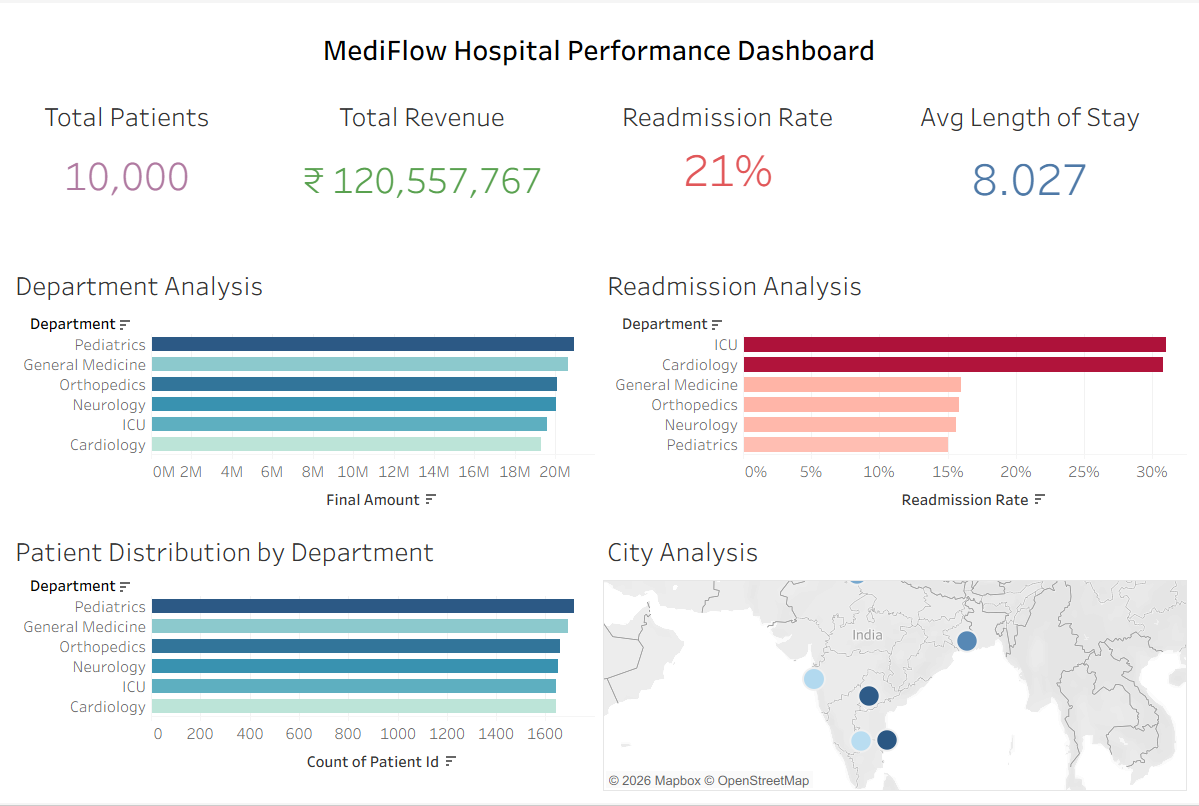

The dashboard page shown, as its layout file describes it:
{"tool":"tableau","page":{"name":"Dashboard 1","canvas":[1000,1000],"units":"permille","ordinal":0},"visuals":[{"type":"text","box":[6.7,10,986.7,95]},{"type":"worksheet","title":"Total Patients","mark":"Text","box":[10,110,210,206.7]},{"type":"worksheet","title":"Total Revenue","mark":"Automatic","box":[220,110,267.5,206.7]},{"type":"worksheet","title":"Readmission Rate","mark":"Automatic","box":[487.5,110,250,206.7]},{"type":"worksheet","title":"Avg Length of Stay","mark":"Automatic","box":[737.5,110,252.5,206.7]},{"type":"worksheet","title":"Department Analysis","mark":"Automatic","rows":["department"],"cols":["final_amount"],"box":[6.7,321.7,493.3,326.2]},{"type":"worksheet","title":"Readmission Analysis","mark":"Automatic","rows":["department"],"cols":["Calculation_1090207334043649"],"box":[500,321.7,493.3,331.9]},{"type":"worksheet","title":"Patient Distribution by Department","mark":"Automatic","rows":["department"],"cols":["patient_id"],"box":[6.7,653.6,493.3,321.2]},{"type":"worksheet","title":"City Analysis","mark":"Automatic","box":[500,653.6,493.3,336.4]}]}

Visuals, with their boxes on the dashboard's canvas, which has no fixed pixel size, in thousandths of its width and height (x1, y1, x2, y2). These are canvas units, not pixel positions in the 1199x806 screenshot, which may show the page scaled, cropped or inside an application window:
text: detection(7, 10, 993, 105)
"Total Patients" worksheet (Text marks): detection(10, 110, 220, 317)
"Total Revenue" worksheet: detection(220, 110, 488, 317)
"Readmission Rate" worksheet: detection(488, 110, 738, 317)
"Avg Length of Stay" worksheet: detection(738, 110, 990, 317)
"Department Analysis" worksheet: detection(7, 322, 500, 648)
"Readmission Analysis" worksheet: detection(500, 322, 993, 654)
"Patient Distribution by Department" worksheet: detection(7, 654, 500, 975)
"City Analysis" worksheet: detection(500, 654, 993, 990)
